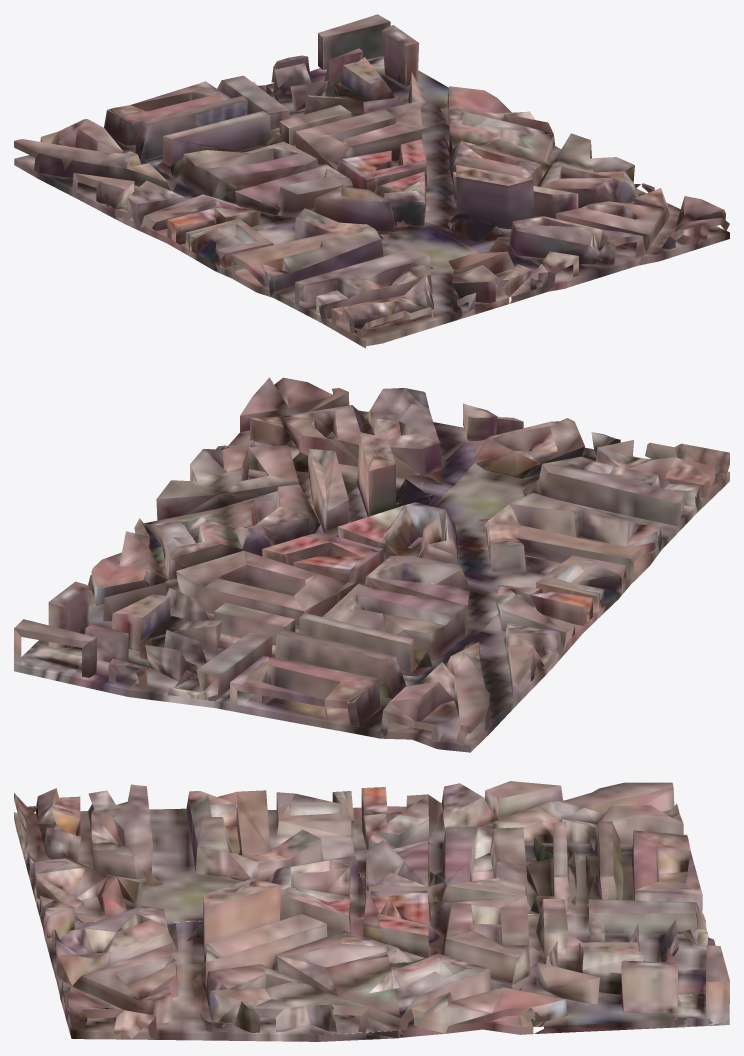
The picture shows the model from 3 angles, top to bottom: view 1: azimuth 30°, elevation 25°; view 2: azimuth 150°, elevation 25°; view 3: azimuth 270°, elevation 25°; orthographic projection. The views are drawn at different scales.
Visible parts, largest first — view 1: Mesh_0; view 2: Mesh_0; view 3: Mesh_0.
Boxes of the visible parts, box(x1,y1,x2,y2) form: Mesh_0: box(14, 14, 729, 348); Mesh_0: box(14, 377, 729, 752); Mesh_0: box(14, 781, 729, 1041).
Size of the model in its own units: 532 by 81.75 by 659.
Materials: 2 (2 with a texture image).
